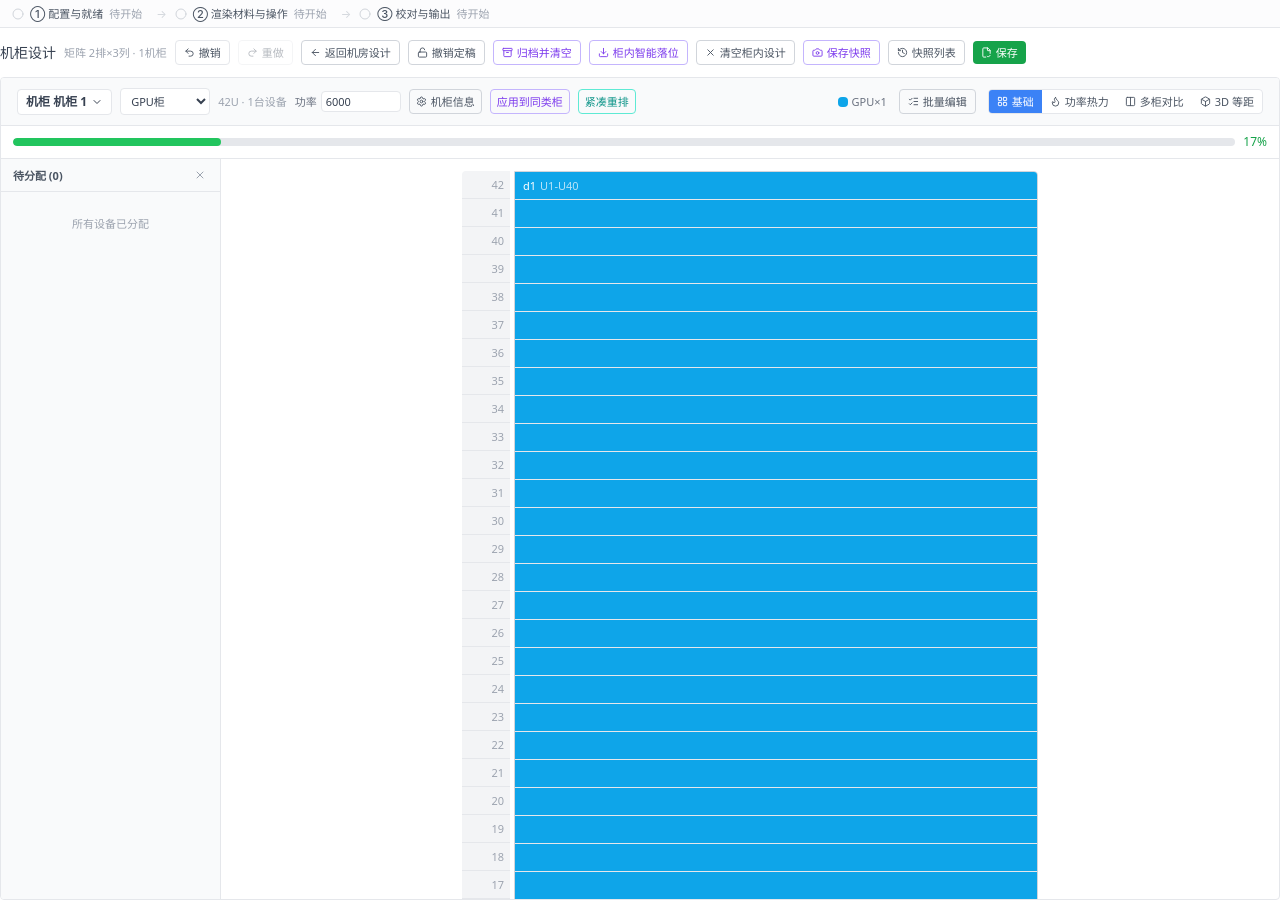
it: RackDesignTab › M5 ED-4 机柜信息调整：改矮总U有设备溢出 → 冲突阻塞不落库并提示
The width and height of the screenshot is (1280, 900).
Click the button "机柜信息" at (445,102), box top-left (409, 89), bottom-right (482, 114)
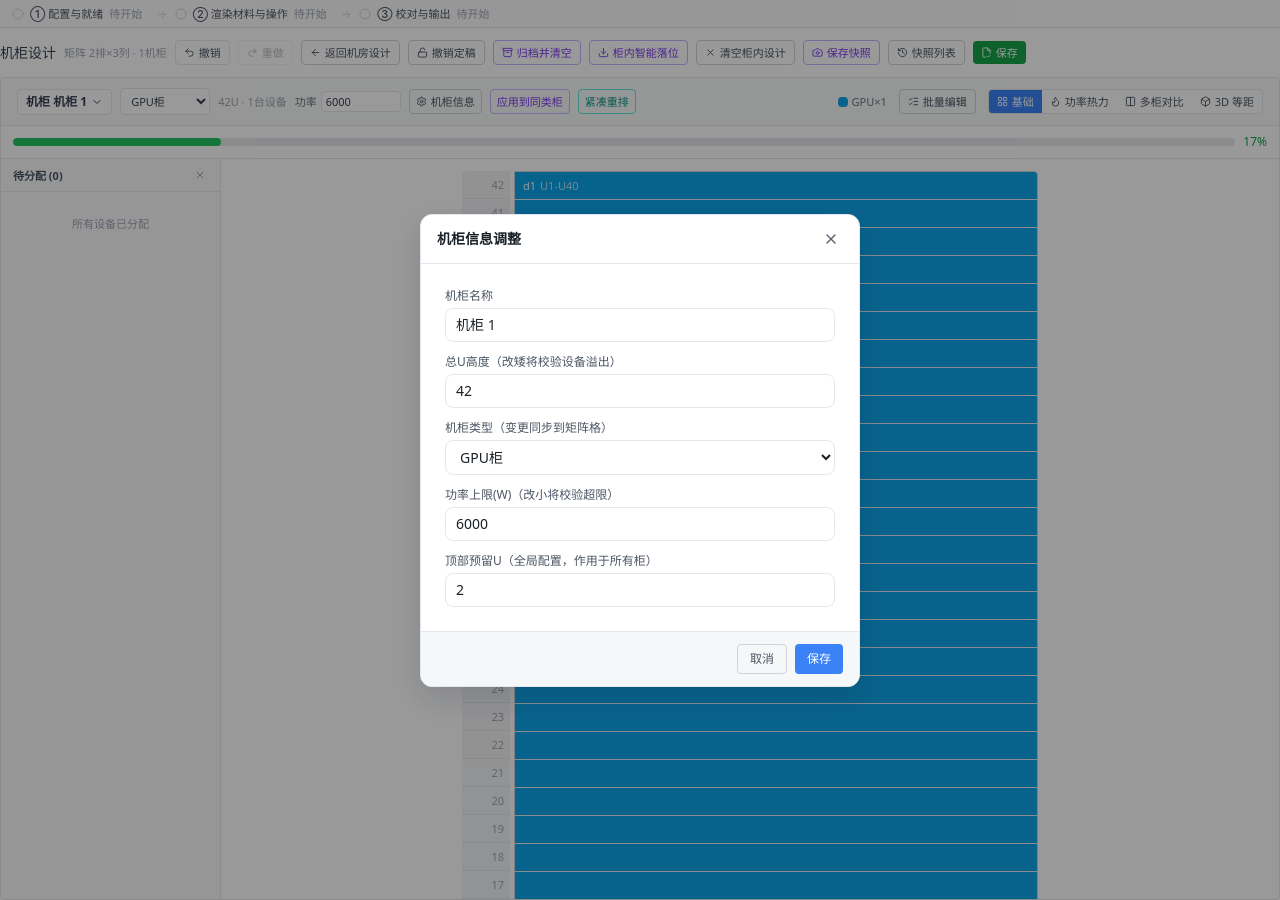
Replace the text in the number field labelled "总U高度" with "30" at (640,390), box top-left (445, 374), bottom-right (835, 408)
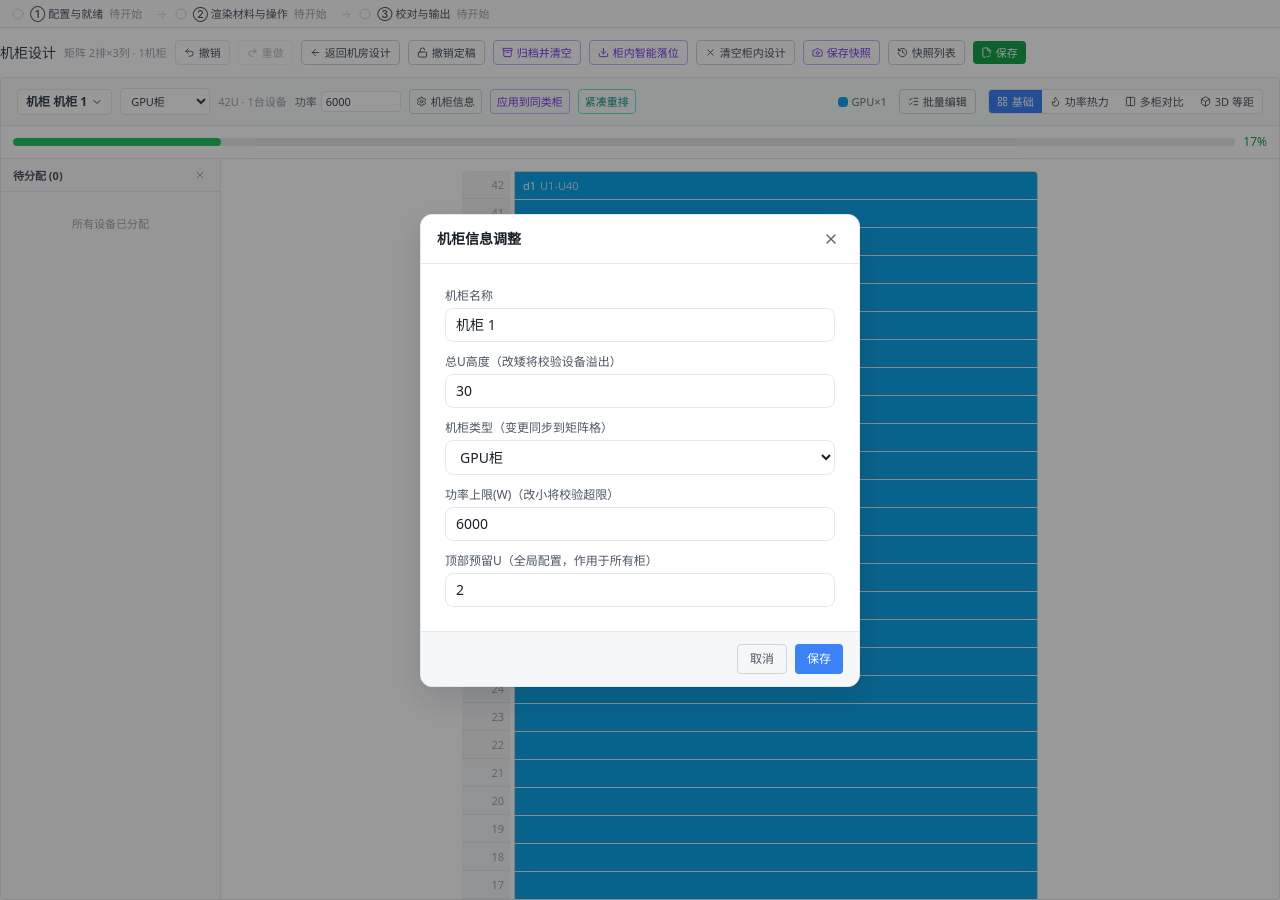
Click the button with aria-label "保存机柜信息" at (819,658), box top-left (795, 644), bottom-right (843, 674)
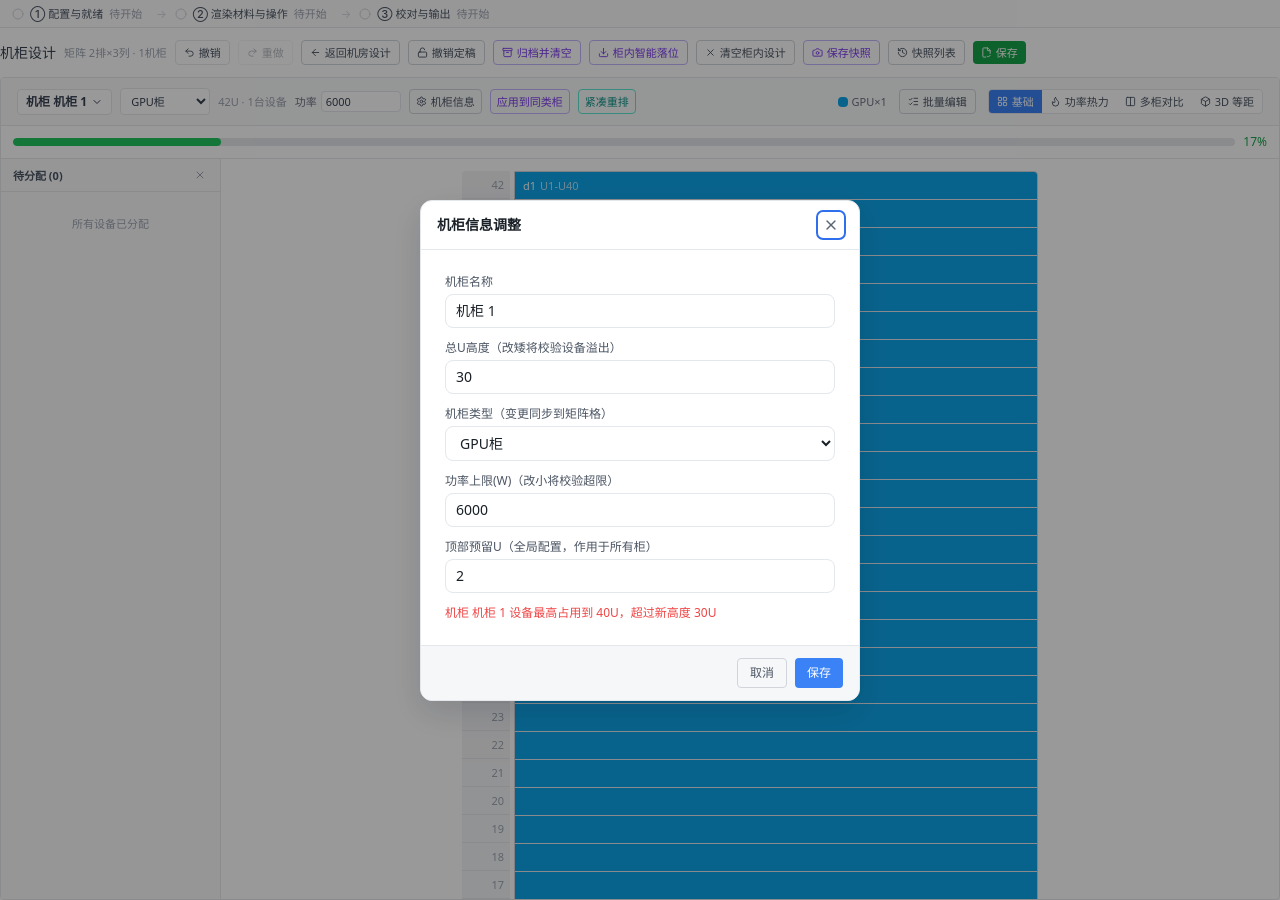
Result: the text "机柜 机柜 1 设备最高占用到 40U，超过新高度 30U" is shown at top-left (445, 604), bottom-right (716, 620)
